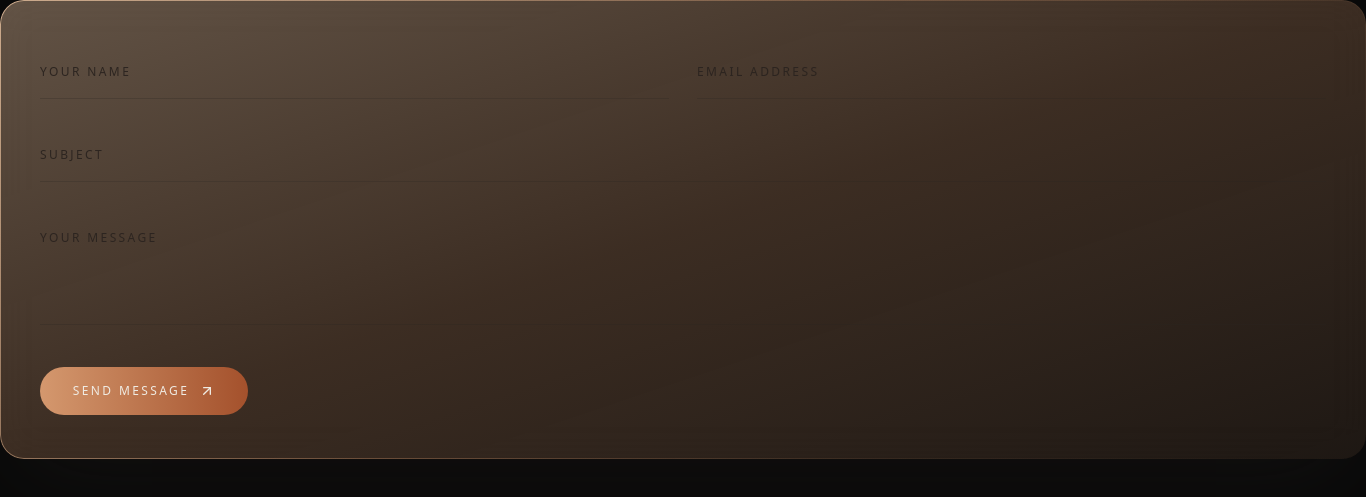
Scenario: ContactForm › flags an invalid email without touching the network
This screenshot has width=1366, height=497.
Type "Ada Lovelace" into the field labelled "Your Name" at (354, 72), box x1=40 y1=44 x2=669 y2=99
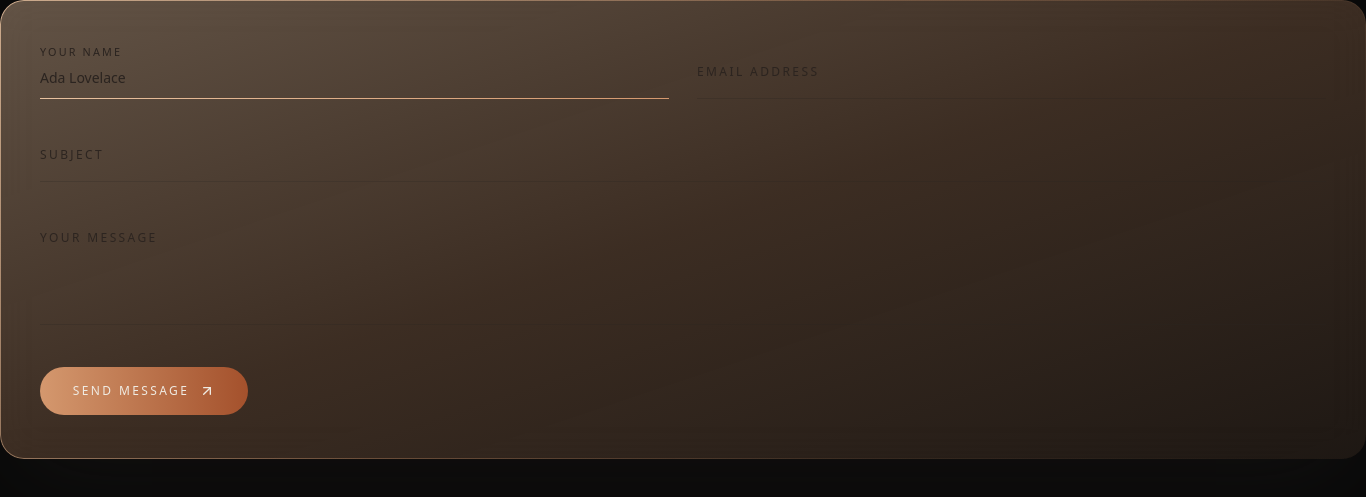
Type "not-an-email" into the field labelled "Email Address" at (1012, 72), box x1=697 y1=44 x2=1326 y2=99
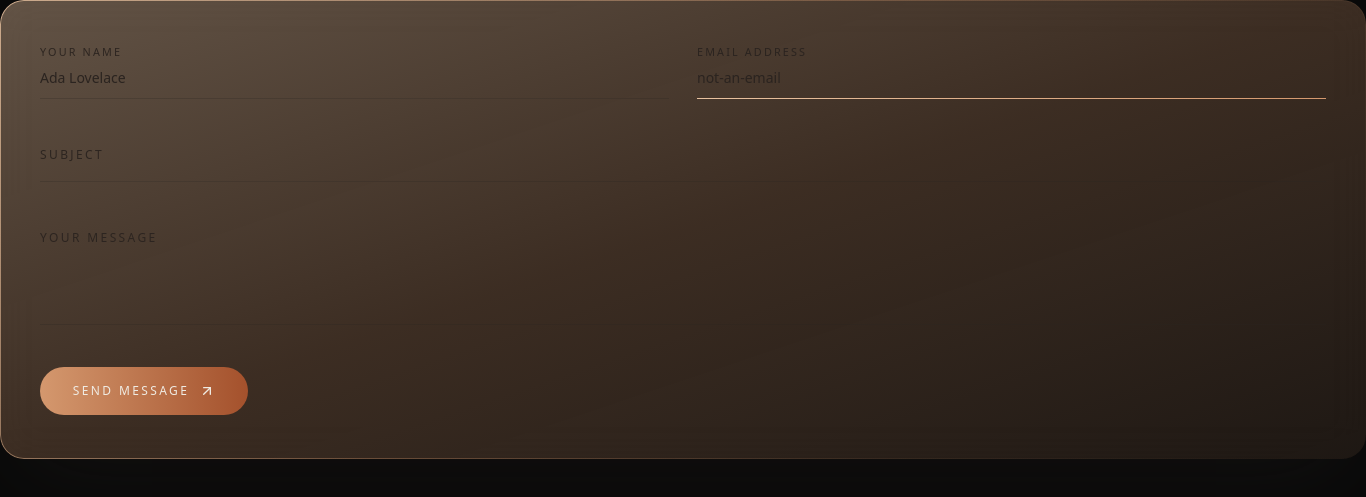
Type "New project" into the field labelled "Subject" at (683, 154), box x1=40 y1=127 x2=1326 y2=182
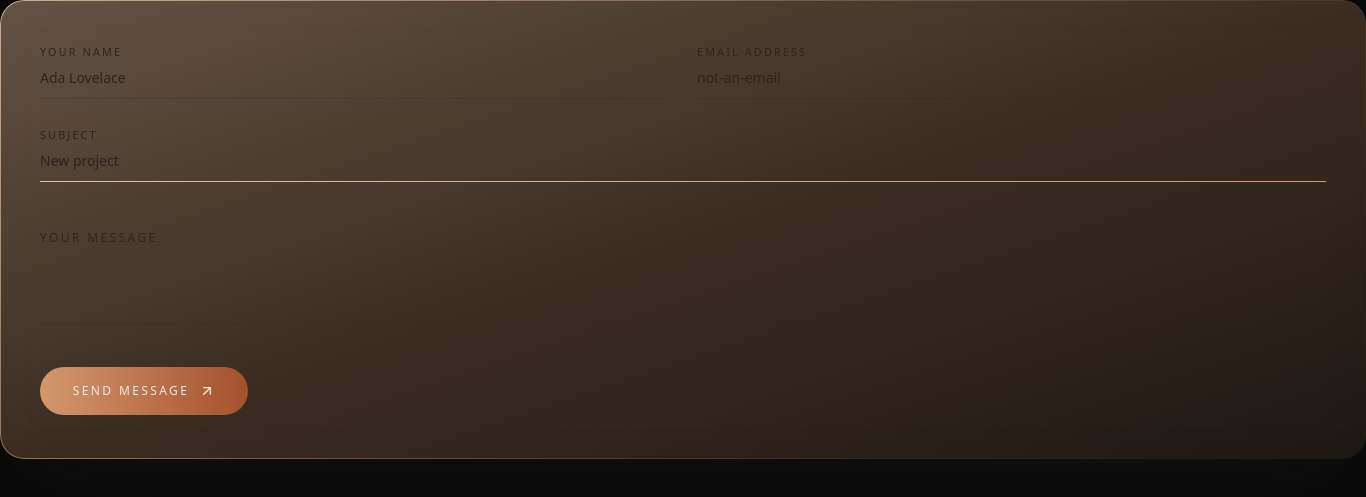
Type "We would like to build a premium marketing site." into the text box labelled "Your Message" at (683, 268), box x1=40 y1=210 x2=1326 y2=325
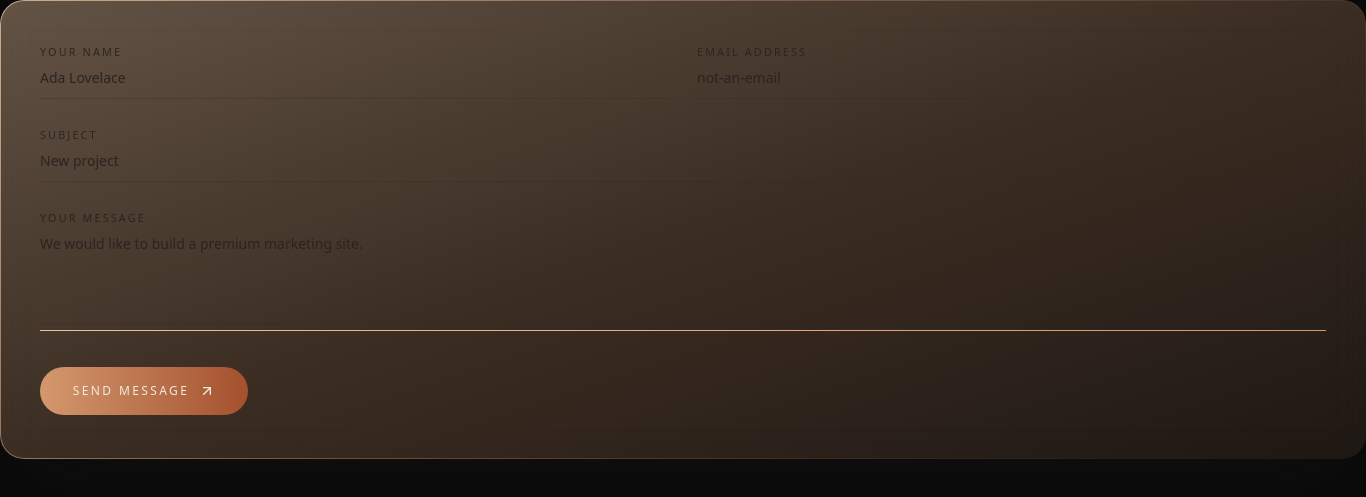
Click the button "Send Message" at (144, 391), box x1=40 y1=367 x2=248 y2=415
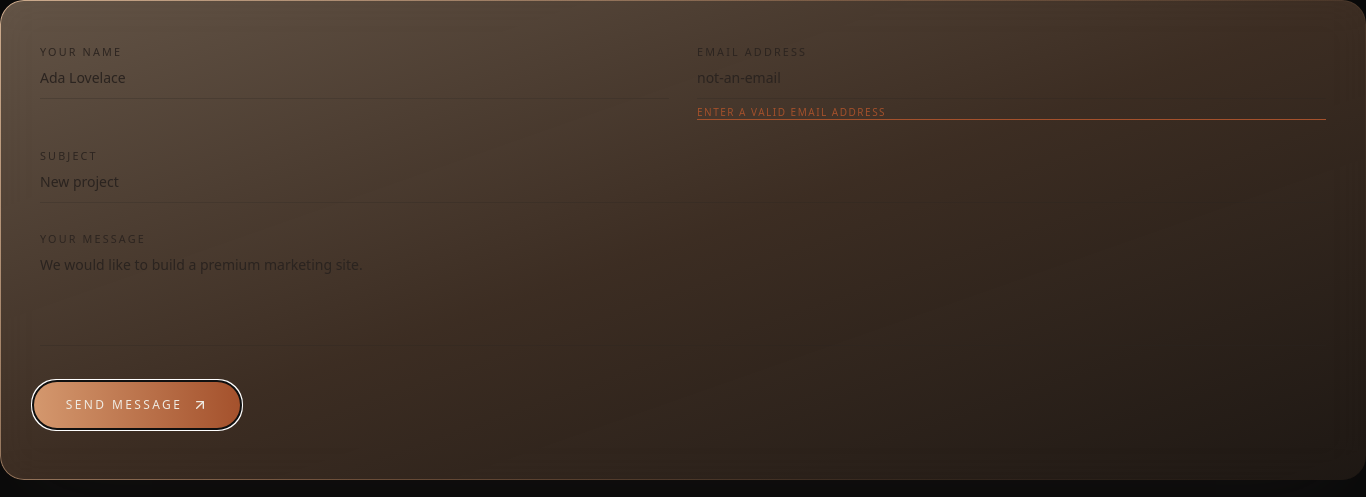
Expected: the text "Enter a valid email address" is shown, x1=697 y1=105 x2=886 y2=119
